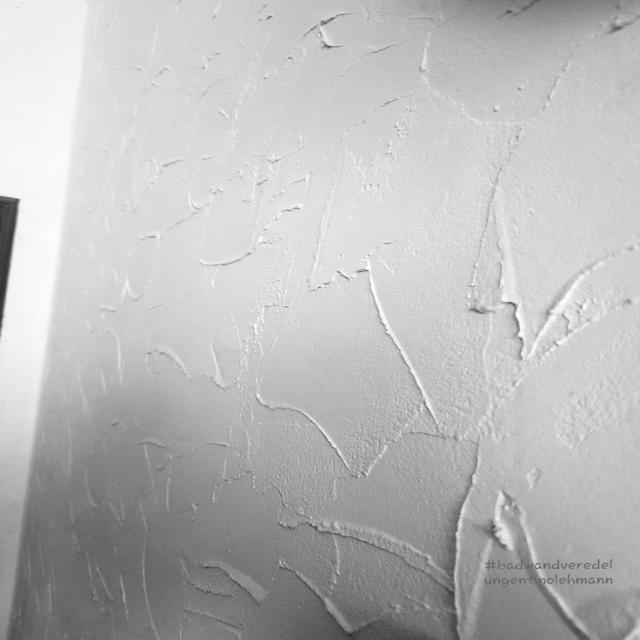trowels marks: (15, 0, 639, 640)
